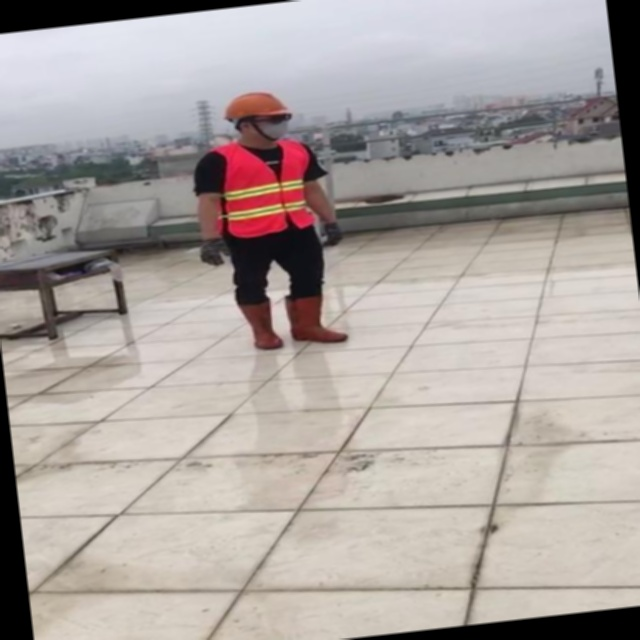boots: (295, 295, 352, 343), (357, 295, 400, 344)
gloves: (393, 195, 441, 257), (279, 196, 318, 256)
helmet: (328, 84, 393, 114)
vest: (311, 135, 407, 227)
